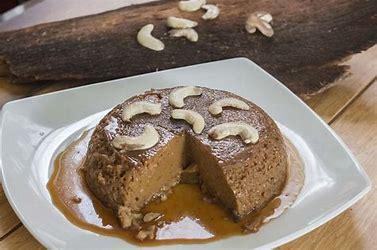Watalappam: (94, 73, 294, 242)
